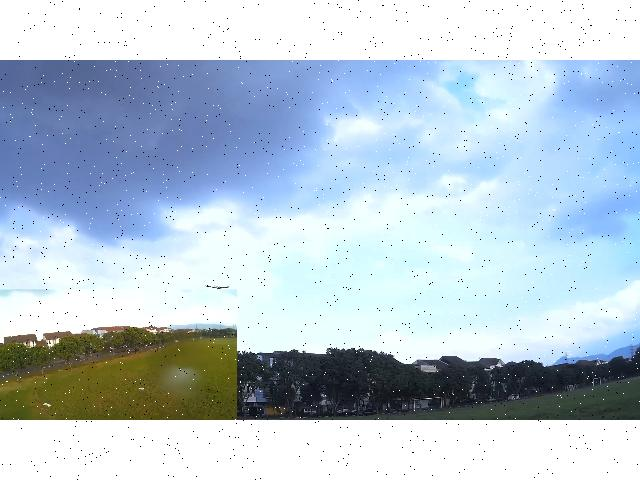Anti-Drone: (205, 286, 229, 290)
